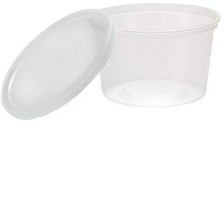glass: (84, 2, 224, 109)
